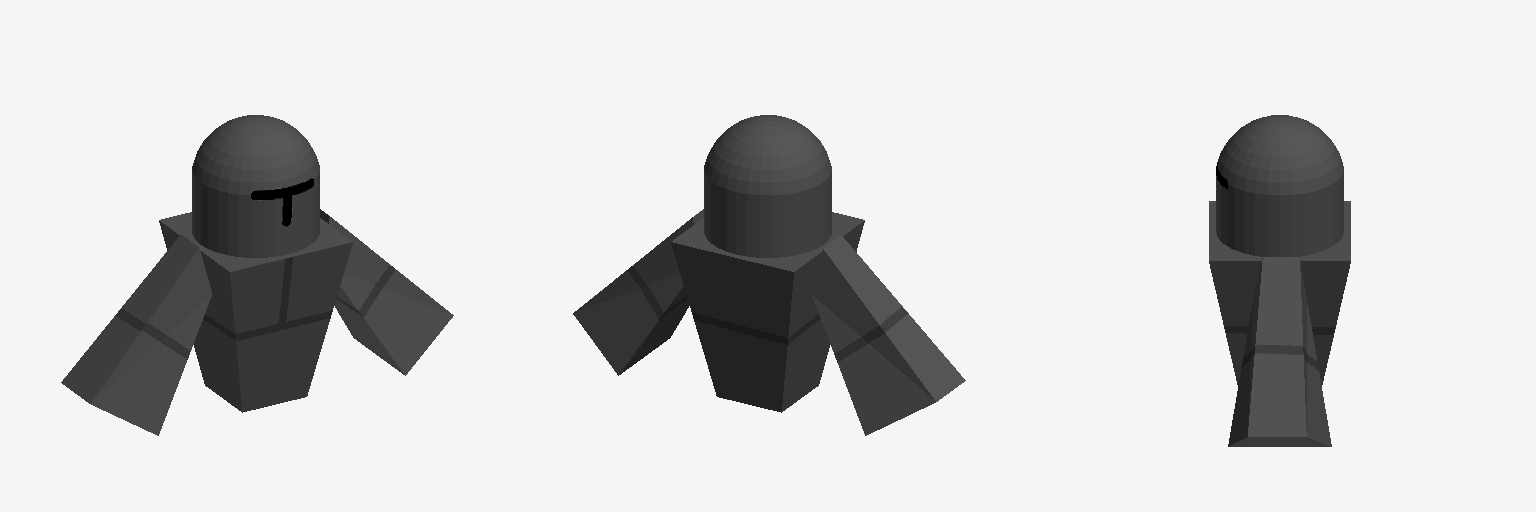
3 views of the same model, side by side, from view 1: azimuth 30°, elevation 25°; view 2: azimuth 150°, elevation 25°; view 3: azimuth 270°, elevation 25° (orthographic).
Visible parts, largest first — view 1: 球.001; view 2: 球.001; view 3: 球.001.
Part boxes in pixels (x1,y1,x2,y2): 球.001: (61, 115, 453, 435); 球.001: (573, 115, 965, 435); 球.001: (1209, 115, 1350, 446).
Size of the model in its own units: 3.95 by 2.8 by 1.34.
1 materials, 1 textured.